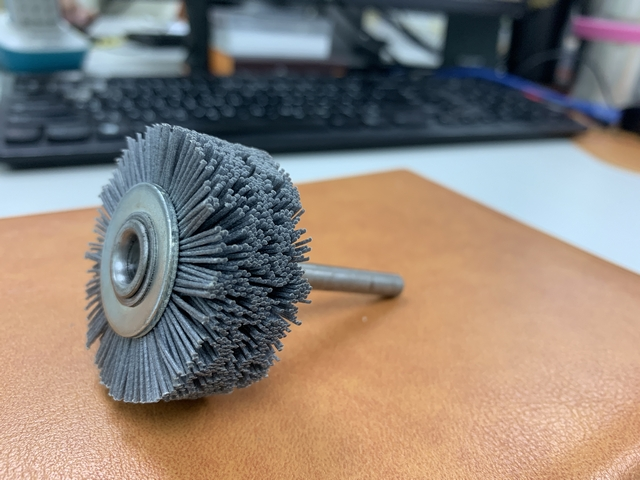Wheel Brush: (90, 128, 424, 386), (73, 113, 348, 406)
